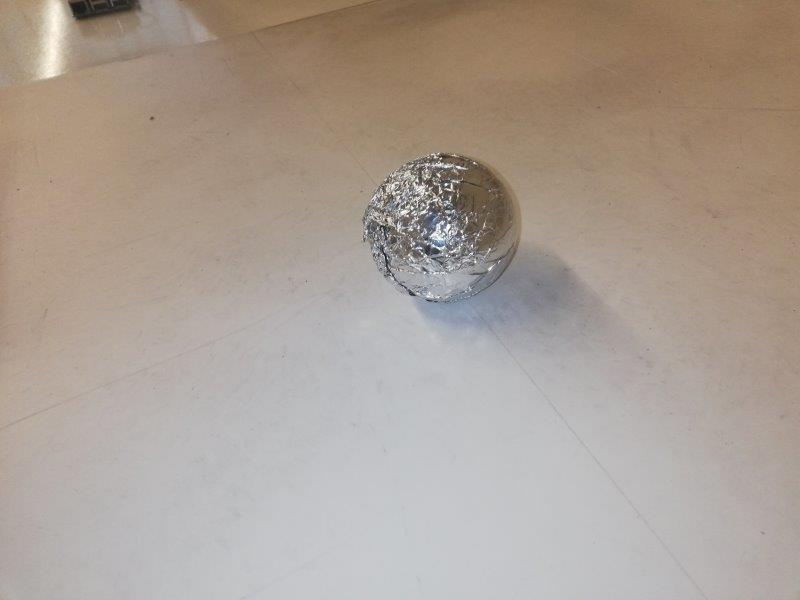bianca: (362, 150, 523, 303)
